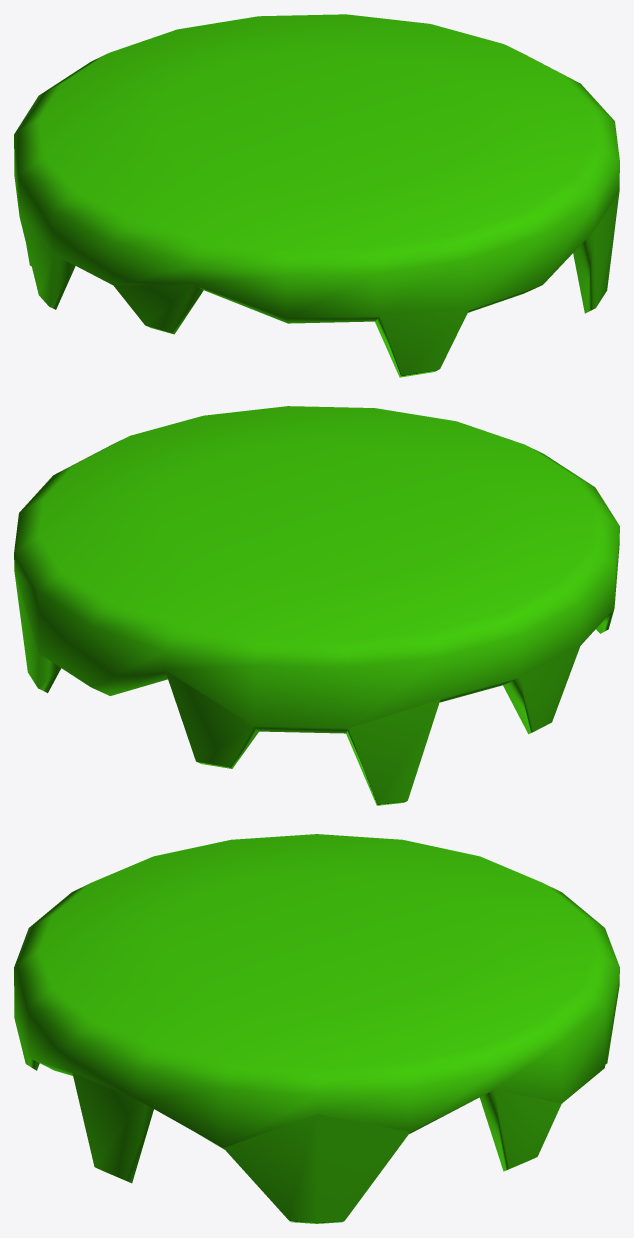
The model's file is grassFloor.fbx.
3 views of the same model, one above another, from view 1: azimuth 30°, elevation 25°; view 2: azimuth 150°, elevation 25°; view 3: azimuth 270°, elevation 25° (orthographic).
Visible parts, largest first — view 1: grassPlatform; view 2: grassPlatform; view 3: grassPlatform.
Part boxes in pixels (left/top/right/bottom): grassPlatform: left=14, top=14, right=619, bottom=377; grassPlatform: left=14, top=406, right=619, bottom=805; grassPlatform: left=14, top=834, right=619, bottom=1223.
Size of the model in its own units: 981 by 313 by 981.
